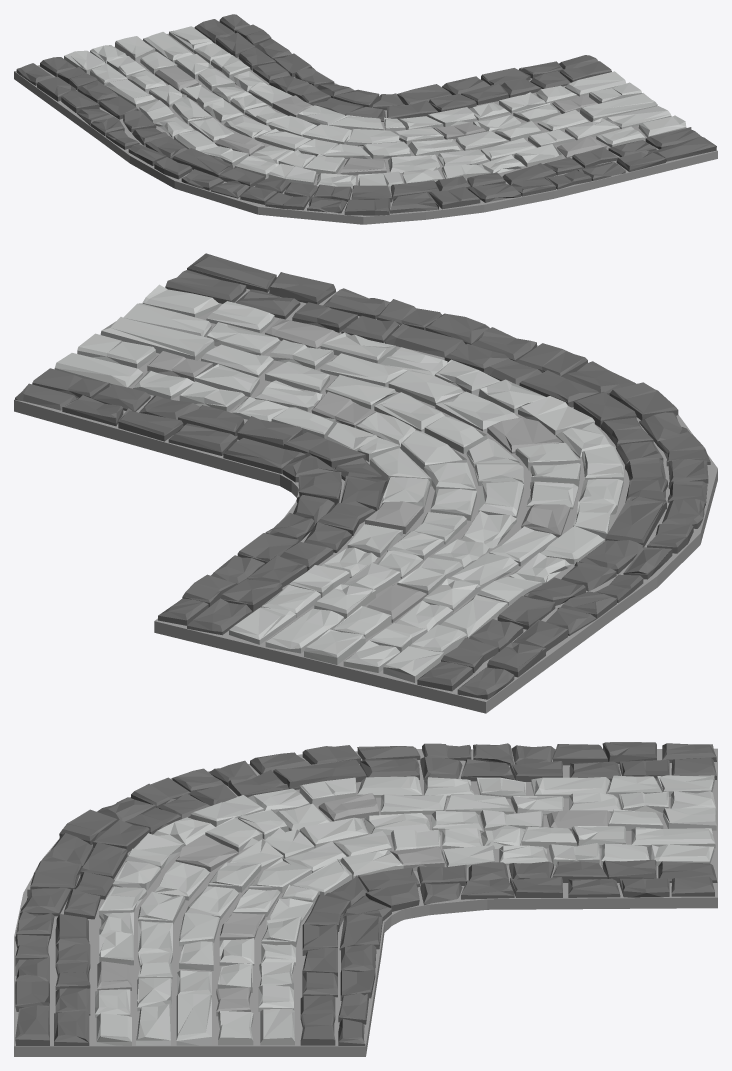
The model's file is Road_Brick_04.glb.
3 renders of one model, top to bottom at view 1: azimuth 30°, elevation 25°; view 2: azimuth 150°, elevation 25°; view 3: azimuth 270°, elevation 25°, orthographic. The views are drawn at different scales.
Parts seen in each view (by area): view 1: Road_breeK_4; view 2: Road_breeK_4; view 3: Road_breeK_4.
Part boxes in pixels (box(x1,y1,x2,y2)): Road_breeK_4: box(14, 14, 717, 224); Road_breeK_4: box(14, 253, 717, 713); Road_breeK_4: box(14, 742, 717, 1056).
Bounding box in the file's own units: 6 × 0.191 × 6.
1 material, 1 textured.
